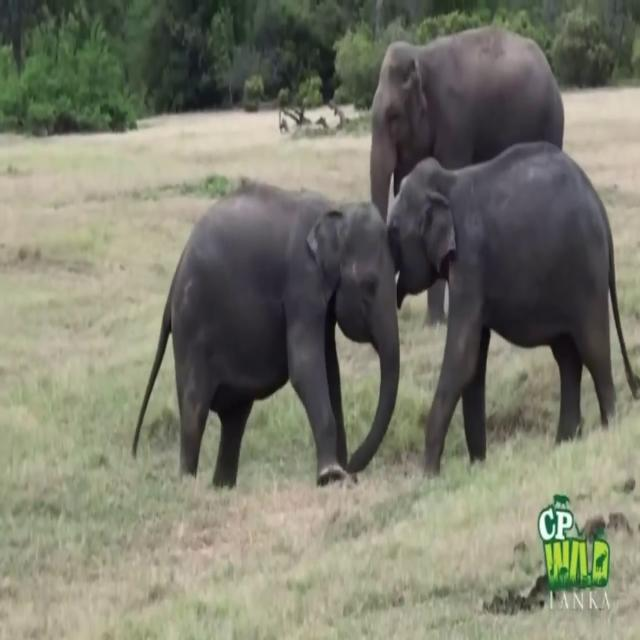Elephant: (385, 140, 639, 478), (130, 176, 400, 491), (370, 24, 564, 324)
